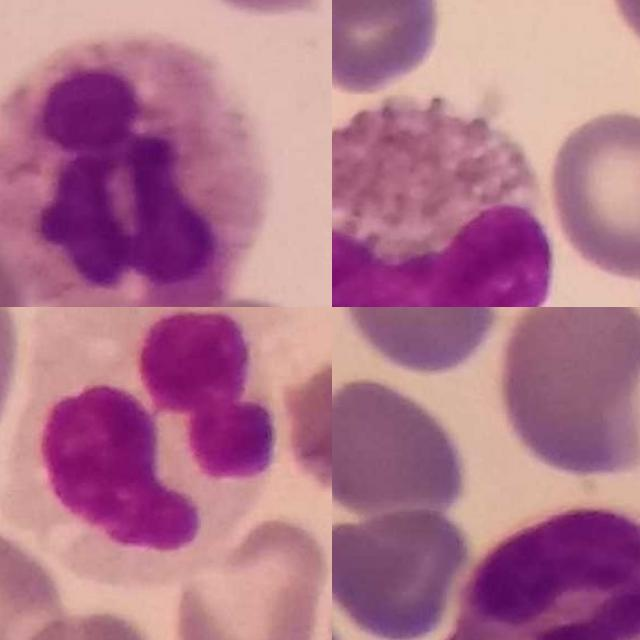Eosinophil: (20, 307, 280, 592), (332, 97, 554, 307), (433, 507, 640, 640)
Neutrophil: (0, 30, 267, 307)
